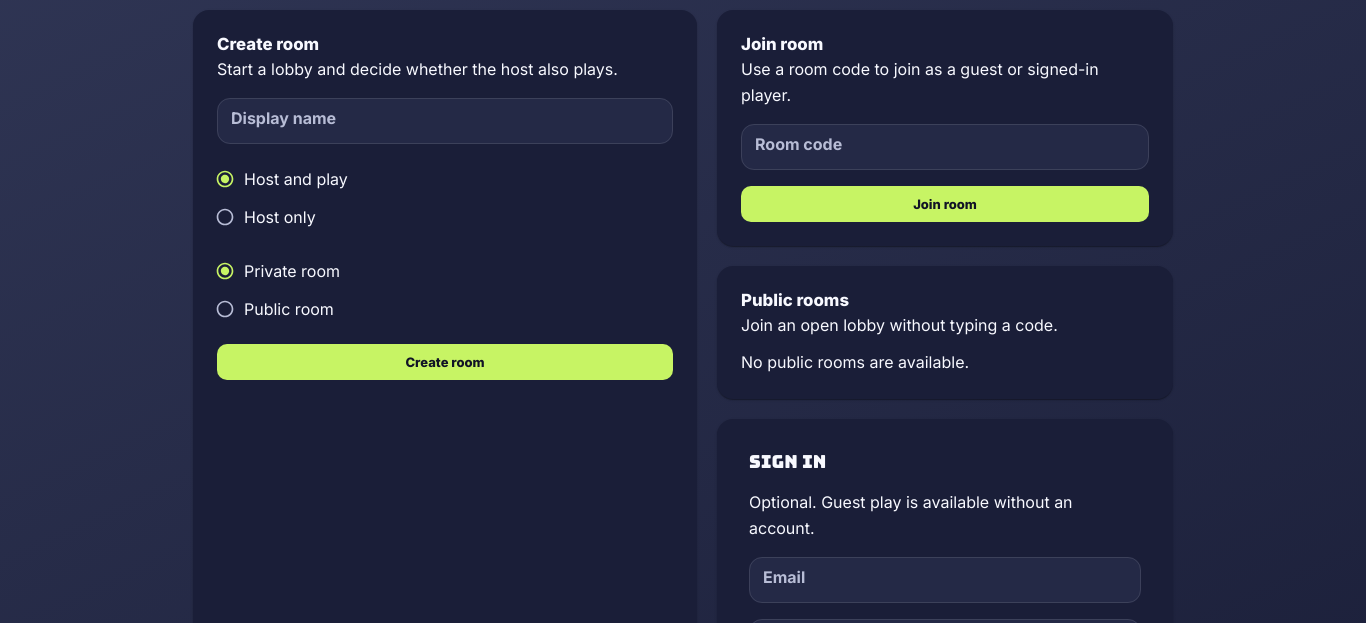
Test: game-web app › remembers the login email when requested
The image size is (1366, 623).
Type "saved@example.com" into the field labelled "Email" at (945, 580), box 749,560 -> 1141,600
(page scrolled)
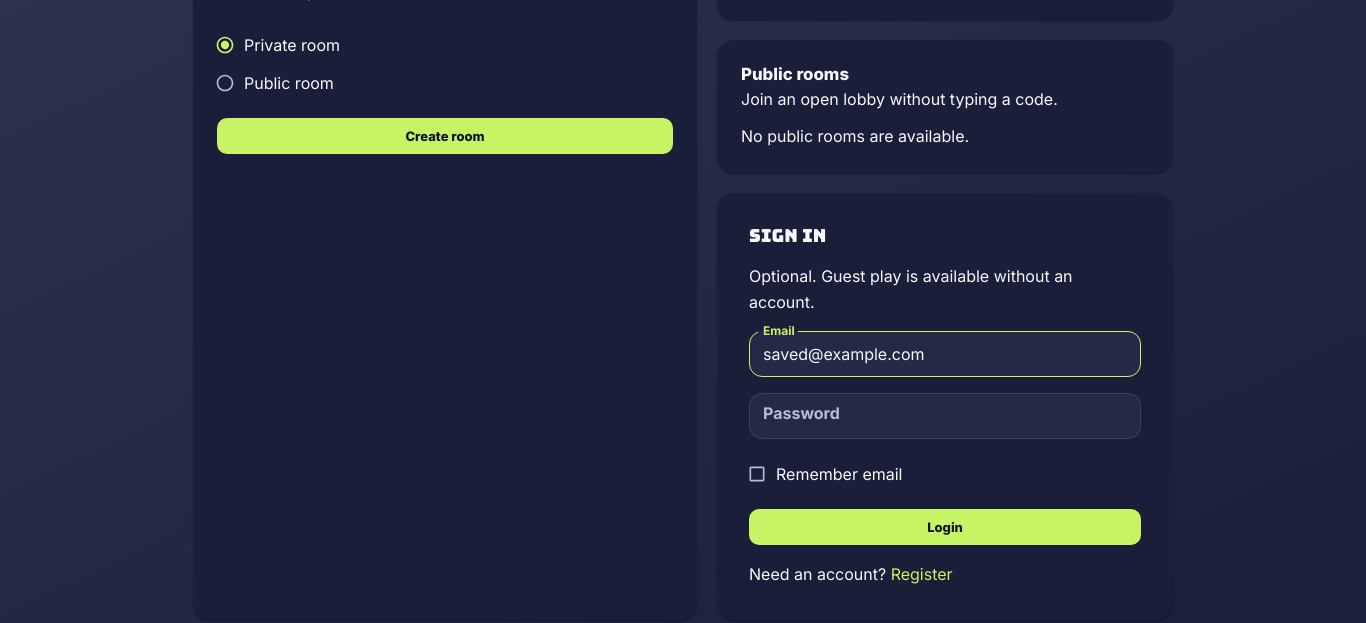
Type "secret-pass" into the password field labelled "Password" at (945, 416), box 749,396 -> 1141,436
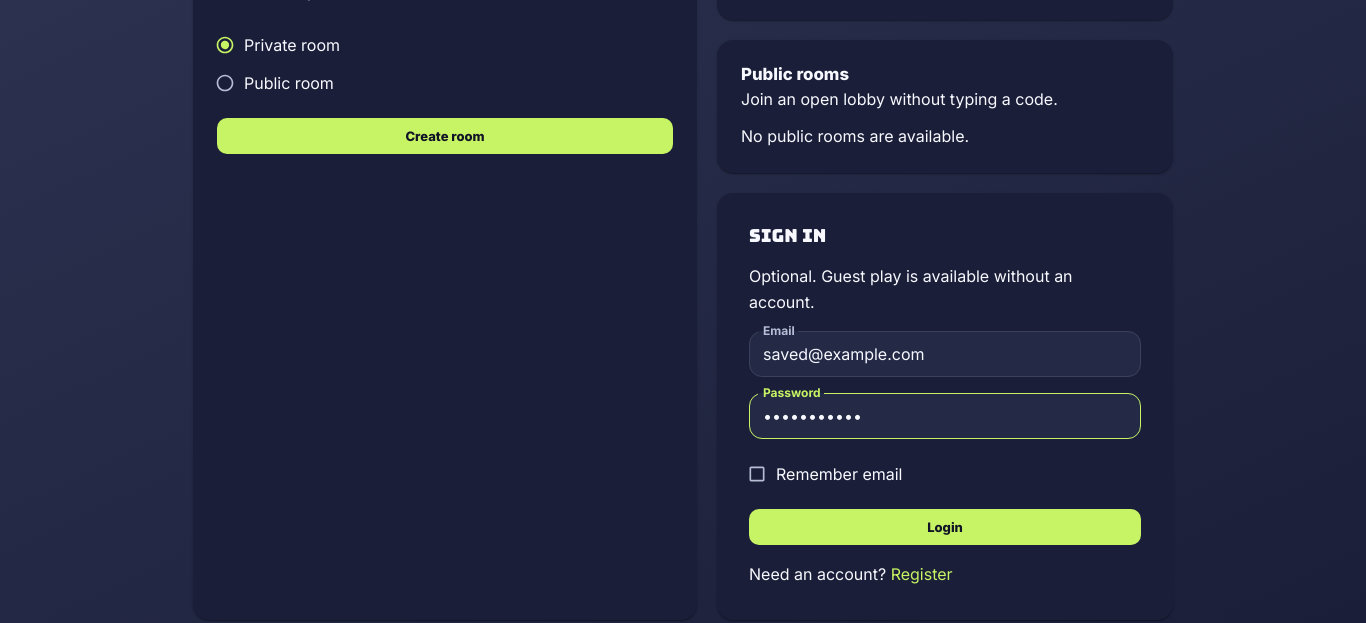
Click the checkbox labelled "Remember email" at (825, 474), box 747,464 -> 902,484
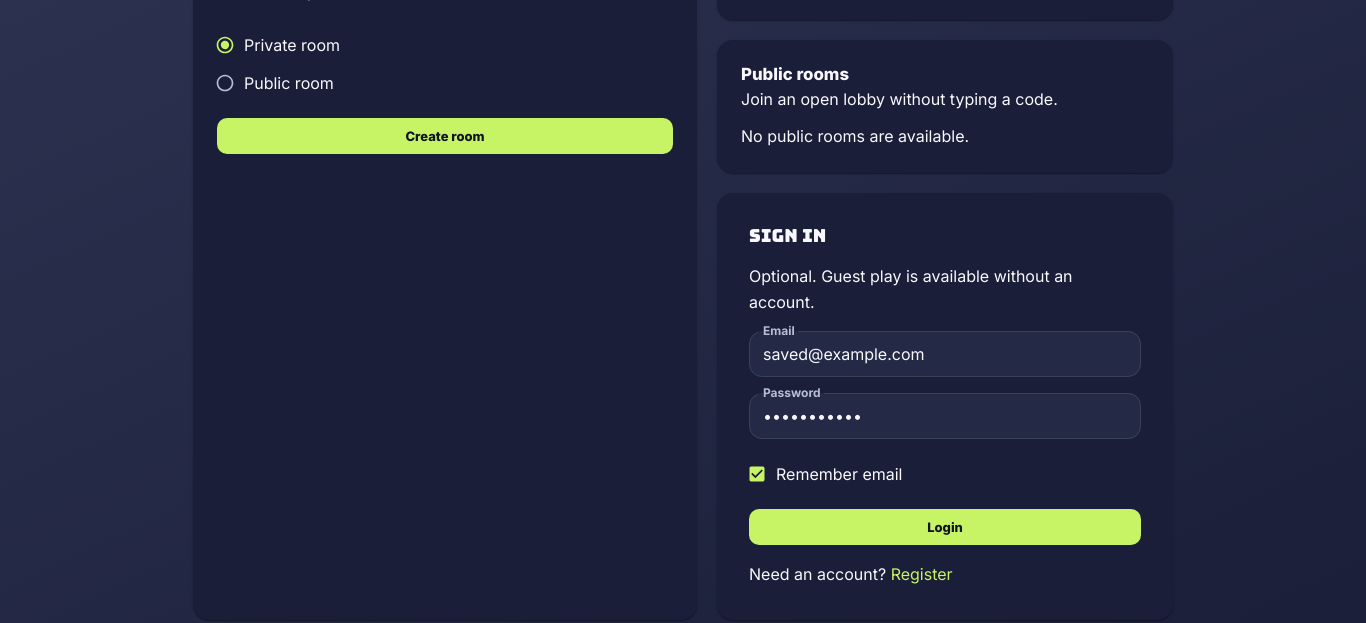
Click the button "Login" at (945, 527), box 749,509 -> 1141,545
(page scrolled)
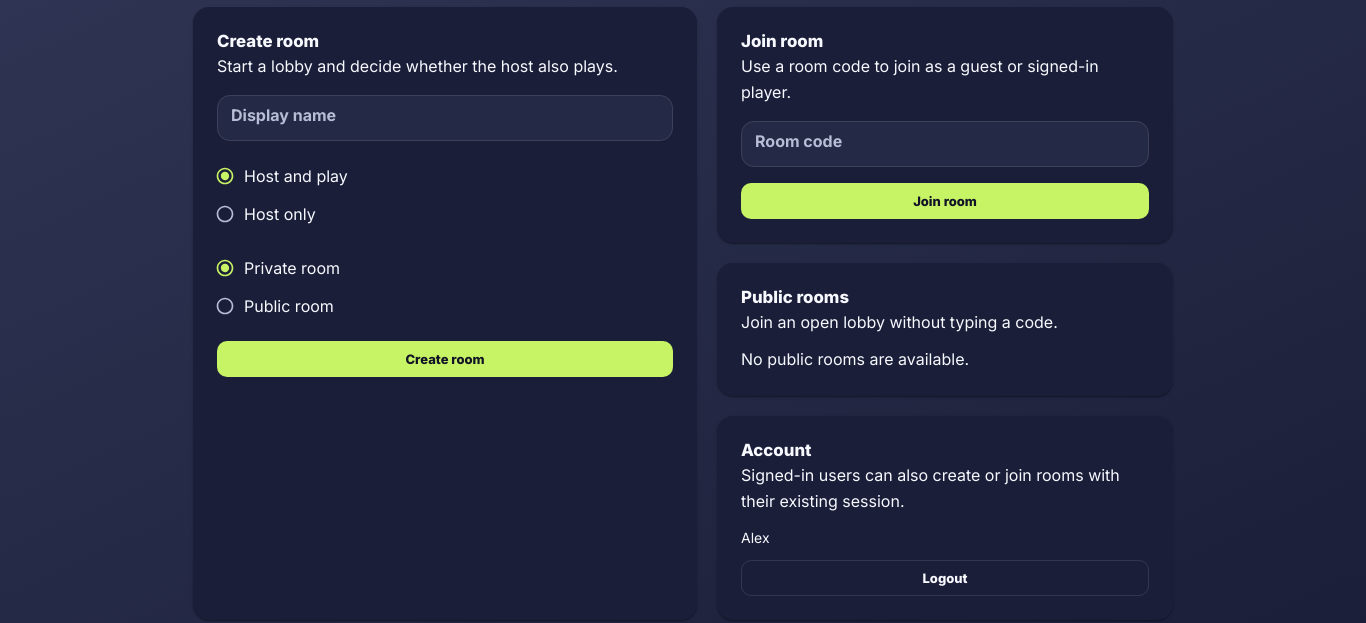
Result: the text "Alex" is shown at 741,529 -> 770,546
